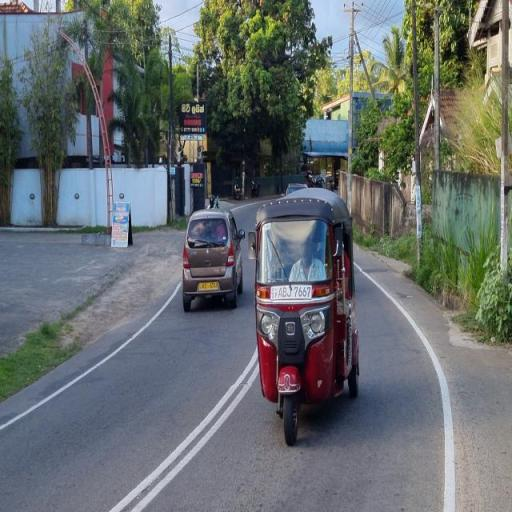double_white_line: (110, 355, 259, 512)
